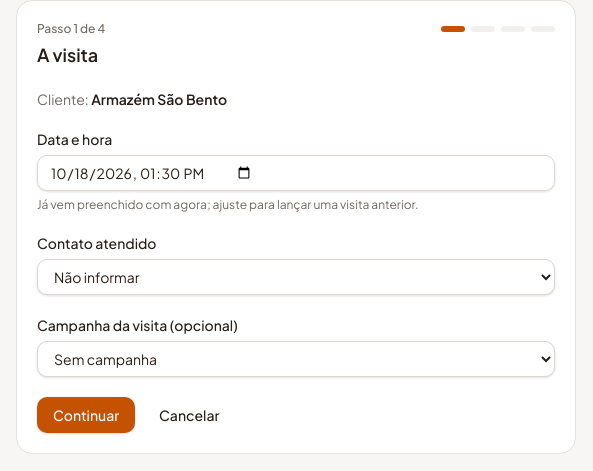
Test case: CheckInPage — passos › passo 2: Venda mostra o pedido; Negociação e Sem venda não
Expected: the text "Armazém São Bento" is shown, [91,90,227,108]
Click the button "Continuar" at coordinates (86, 415), box [37,397,135,433]
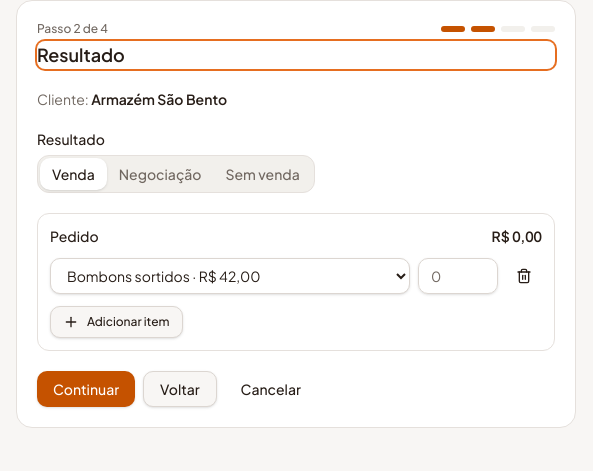
Expected: the dropdown named "Produto do item 1" shows "Bombons sortidos · R$ 42,00", [50,258,410,294]
Expected: the number of dropdowns is 1, [50,258,410,294]
Click the radio button labelled "Negociação" at coordinates (160, 174), box [107,158,214,190]
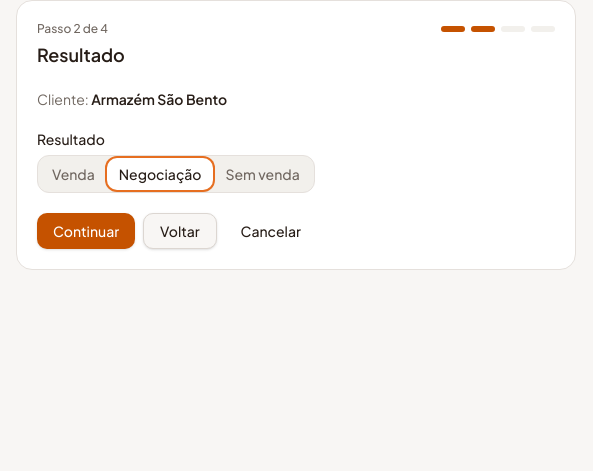
Expected: the text "Pedido" is gone
Click the radio button labelled "Sem venda" at coordinates (263, 174), box [214,158,312,190]
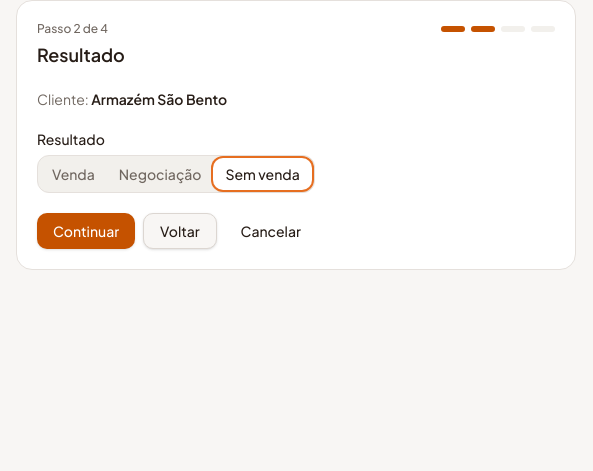
Expected: the text "Pedido" is not shown
Click the radio button labelled "Venda" at coordinates (73, 174), box [40,158,107,190]
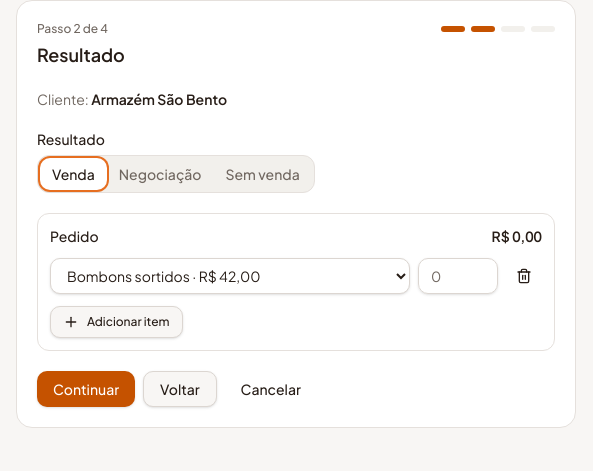
Expected: the element "Pedido" is shown, [37,213,555,351]
